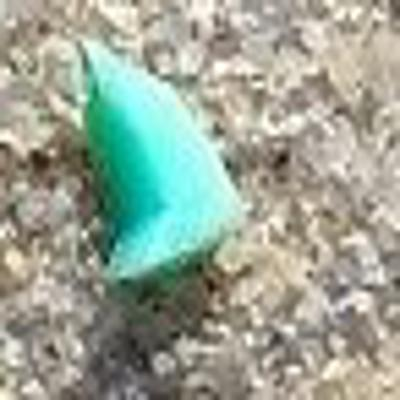plastic: (61, 27, 251, 291)
